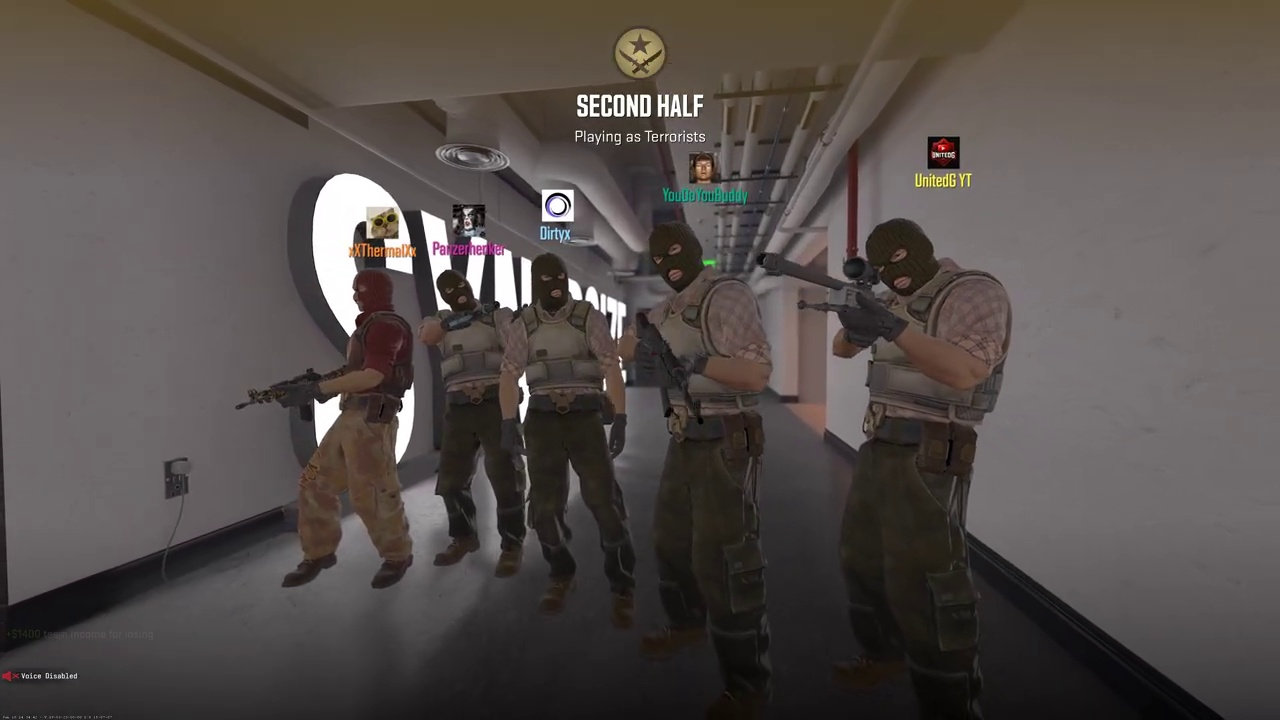Terrorist: (832, 218, 1013, 720), (629, 219, 774, 720), (513, 252, 643, 631), (285, 268, 427, 590), (421, 270, 521, 578)
